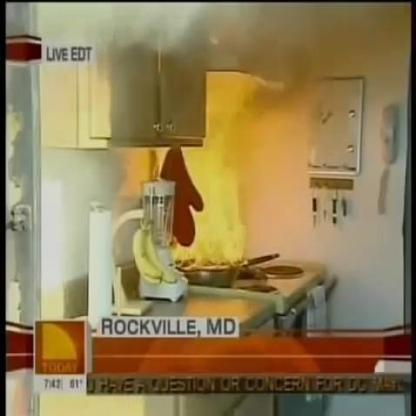fire: (173, 73, 266, 272)
